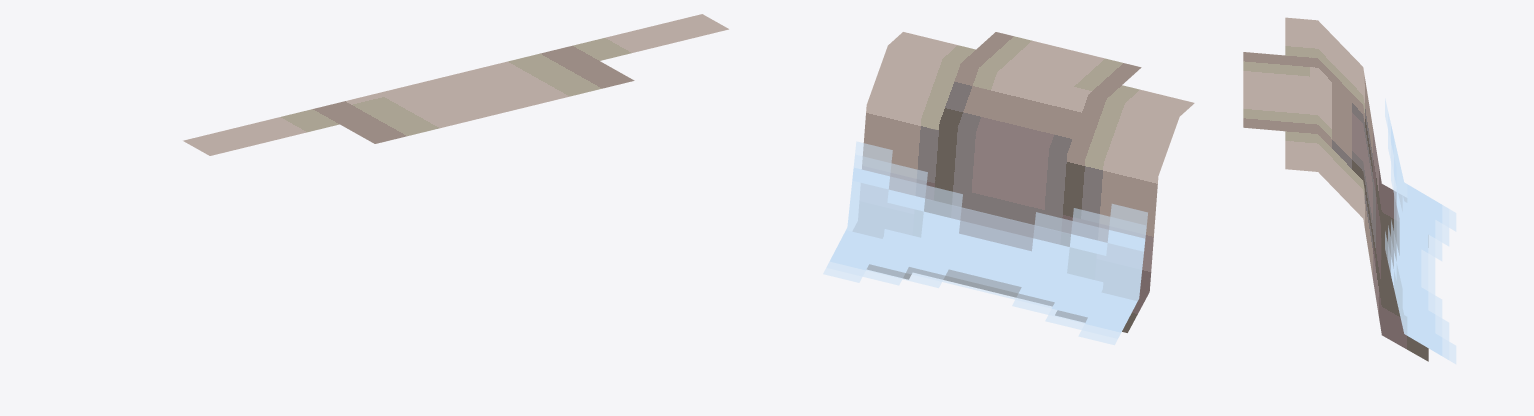
3 views of the same model, side by side, from view 1: azimuth 30°, elevation 25°; view 2: azimuth 150°, elevation 25°; view 3: azimuth 270°, elevation 25° (orthographic). The views are drawn at different scales.
Size of the model in its own units: 1 by 0.7266 by 0.7695.
Materials: 4 (4 with a texture image).
